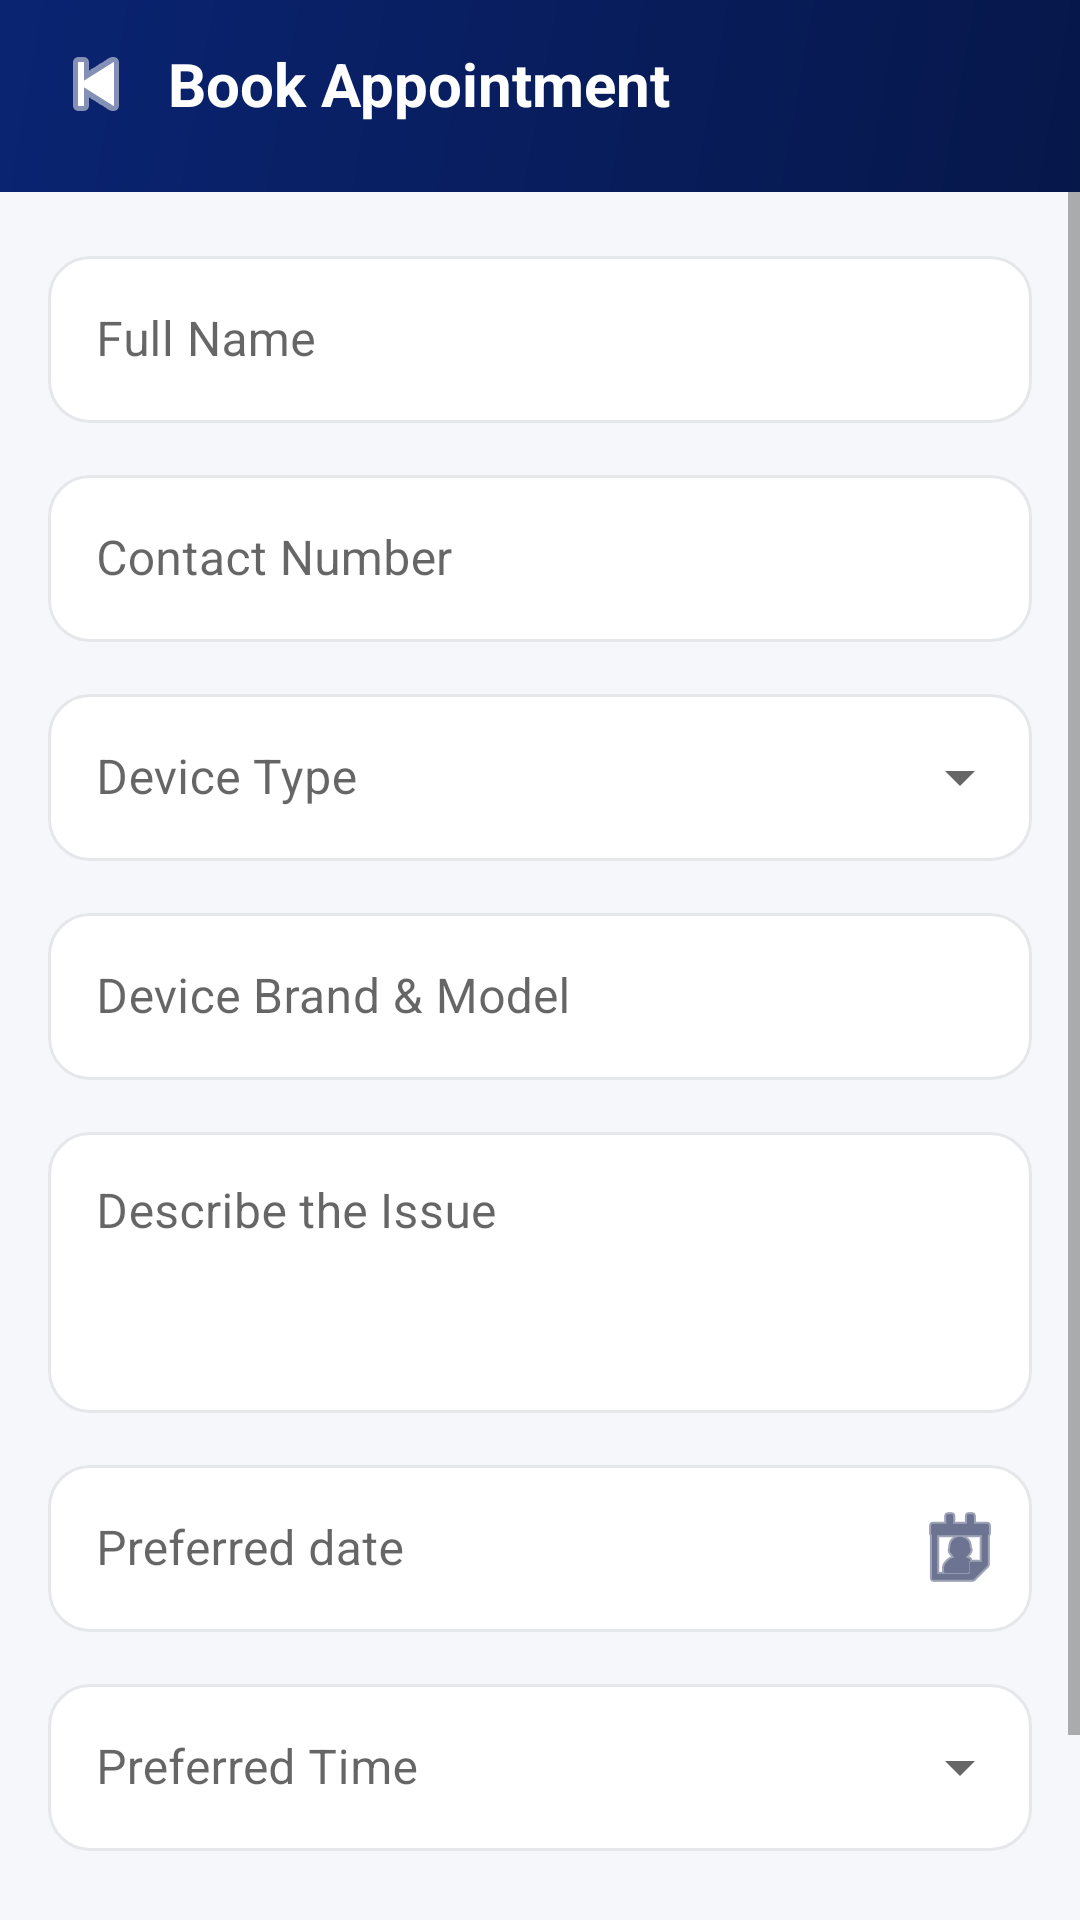

Icons on this 1080 x 1920 Android screen, each with its box as (x1, y1, x2, y2):
previous: (73, 57, 119, 111)
